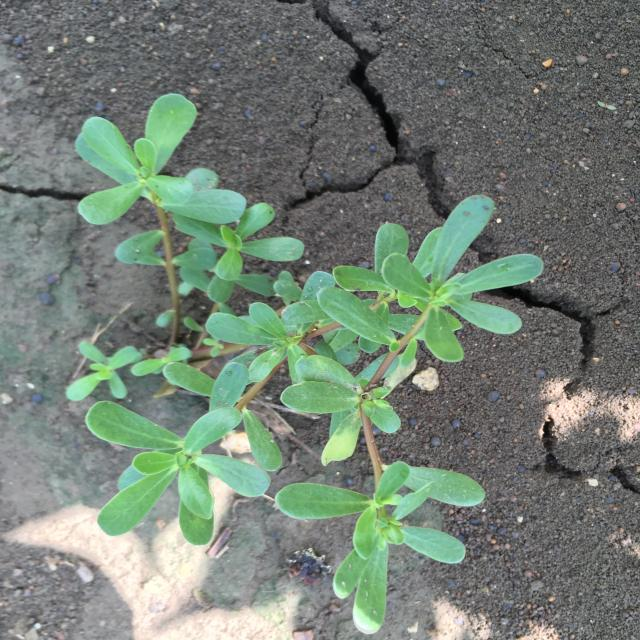Purslane: (66, 93, 543, 634)
